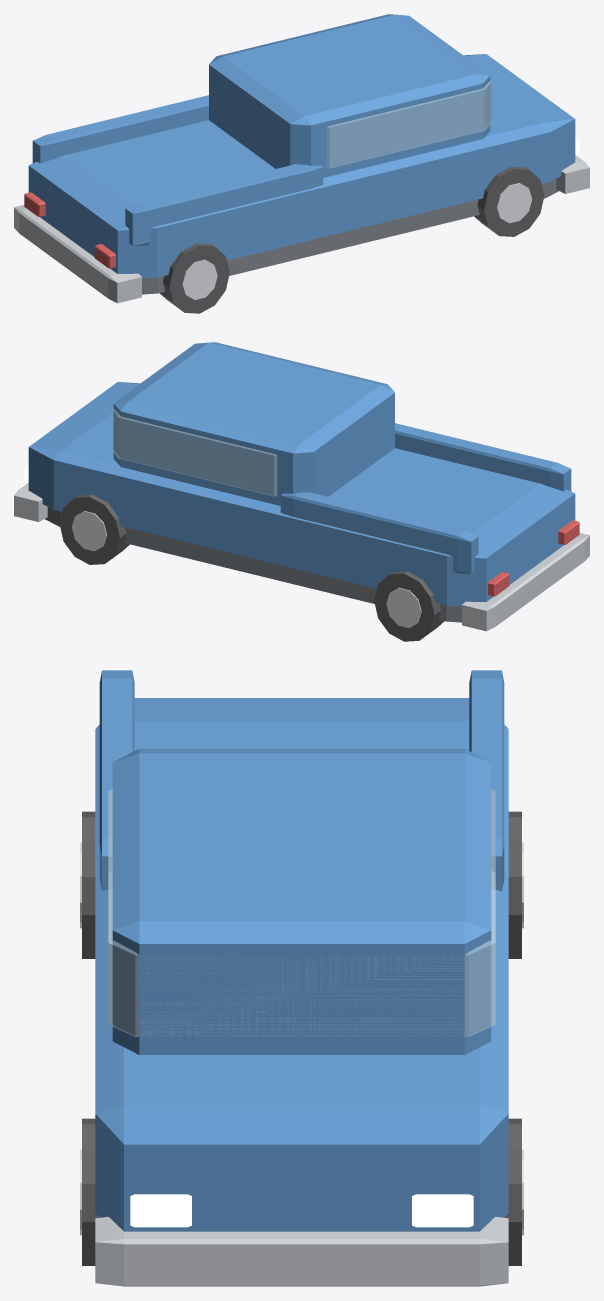
Rendered from b03_extended_cab_pickup.glb.
3 renders of one model, top to bottom at view 1: azimuth 30°, elevation 25°; view 2: azimuth 150°, elevation 25°; view 3: azimuth 270°, elevation 25°, orthographic. The views are drawn at different scales.
Parts seen in each view (by area): view 1: b03_extended_cab_pickup; view 2: b03_extended_cab_pickup; view 3: b03_extended_cab_pickup.
Part boxes in pixels (<box>): b03_extended_cab_pickup: <box>14,14,589,313</box>; b03_extended_cab_pickup: <box>14,342,589,641</box>; b03_extended_cab_pickup: <box>80,670,523,1286</box>.
Size of the model in its own units: 6 by 1.9 by 2.42.
